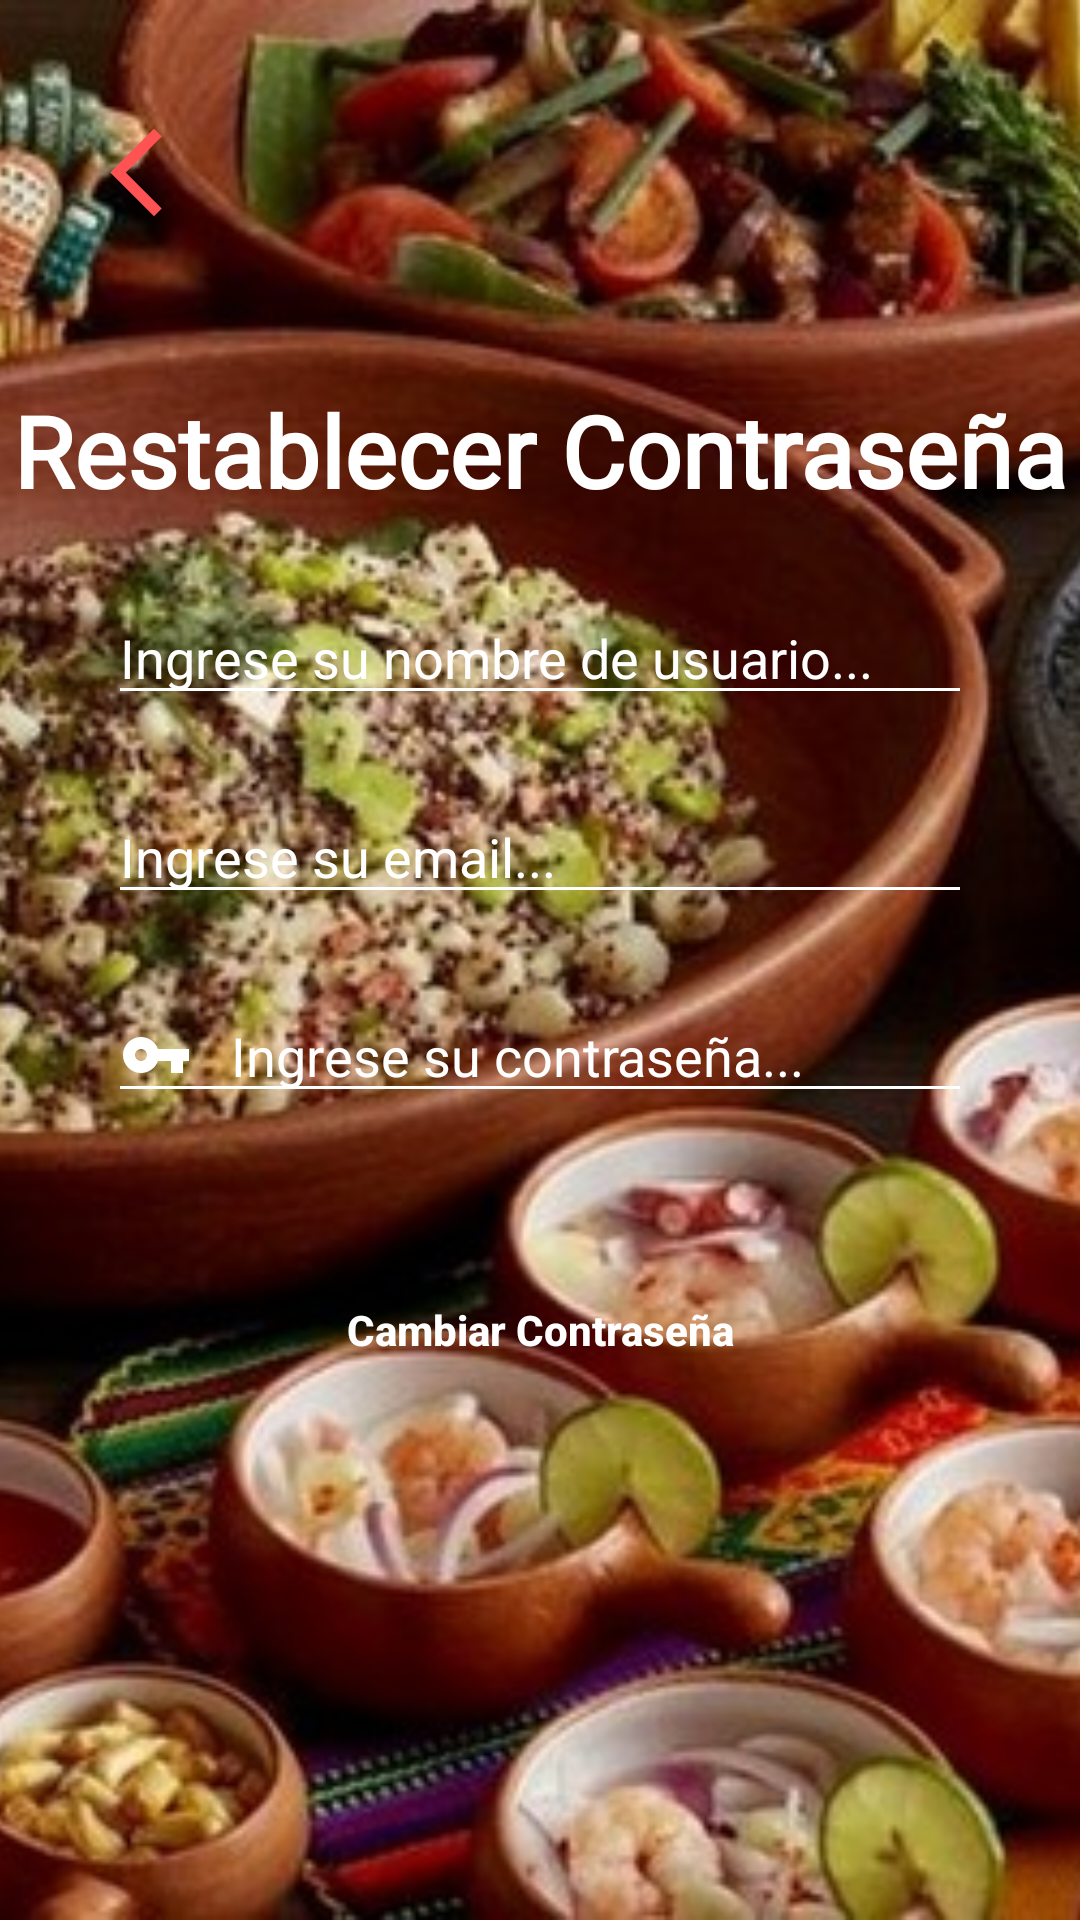

Where to tap for icons on this 1080x1920 app screen, as [x,y]:
back: [136,172]
